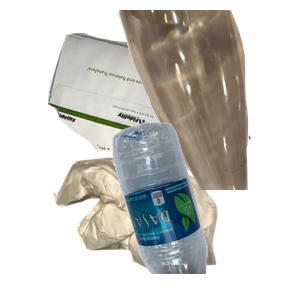glass: (115, 10, 300, 190)
paper: (45, 30, 281, 195)
plastic: (110, 120, 300, 300)
trash: (51, 155, 261, 300)
